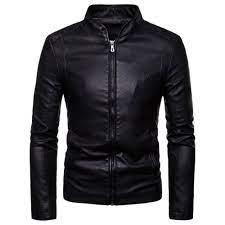jacket: (27, 2, 197, 222)
